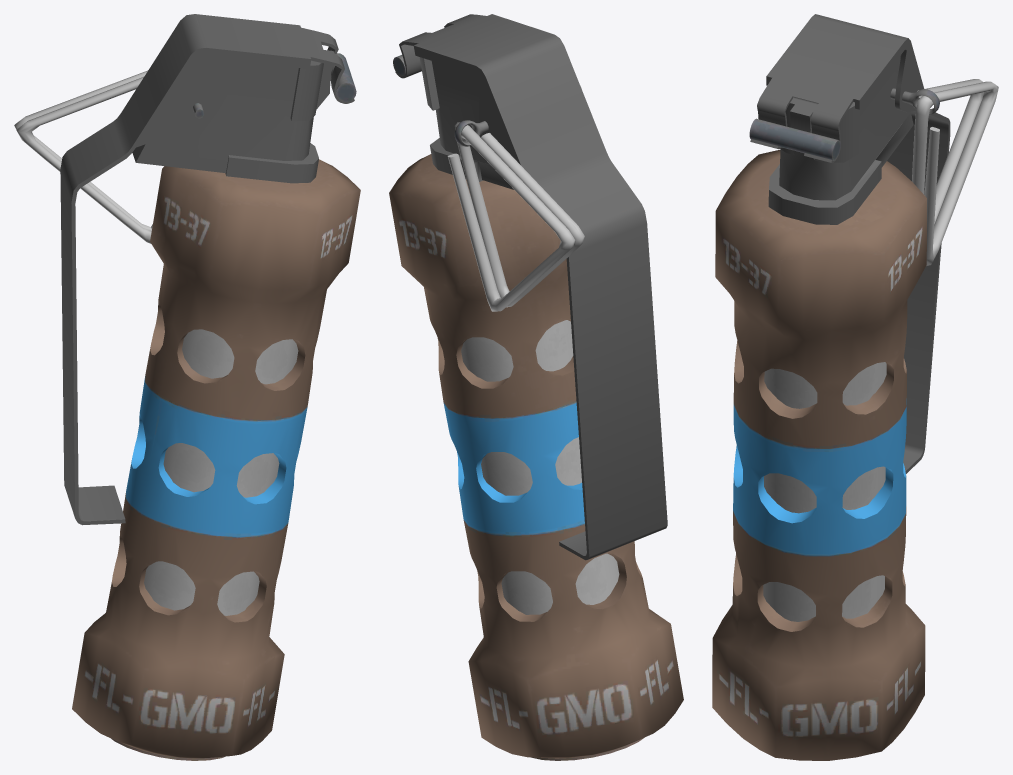
Rendered from Flash_TP.glb.
The picture shows the model from 3 angles, left to right: view 1: azimuth 30°, elevation 25°; view 2: azimuth 150°, elevation 25°; view 3: azimuth 270°, elevation 25°; orthographic projection. The views are drawn at different scales.
Parts seen in each view (by area): view 1: flashGrenade; view 2: flashGrenade; view 3: flashGrenade.
Boxes of the visible parts, left/top/right/bottom form: flashGrenade: left=14, top=14, right=360, bottom=760; flashGrenade: left=389, top=14, right=683, bottom=760; flashGrenade: left=712, top=14, right=998, bottom=760.
Bounding box in the file's own units: 0.0755 × 0.1843 × 0.0657.
Materials: 1 (1 with a texture image).
